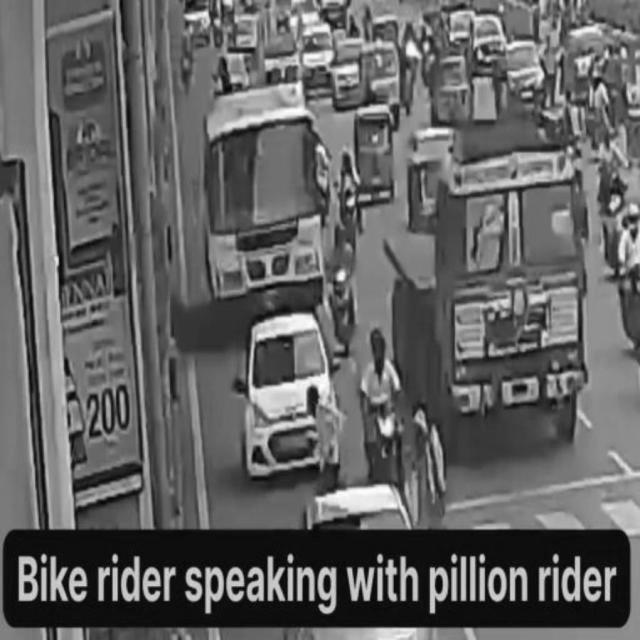person: (297, 382, 345, 494), (414, 375, 446, 529)
vehicle: (445, 122, 589, 433), (201, 102, 322, 323), (243, 319, 339, 479), (358, 325, 408, 509), (329, 221, 359, 352), (338, 141, 365, 234)
